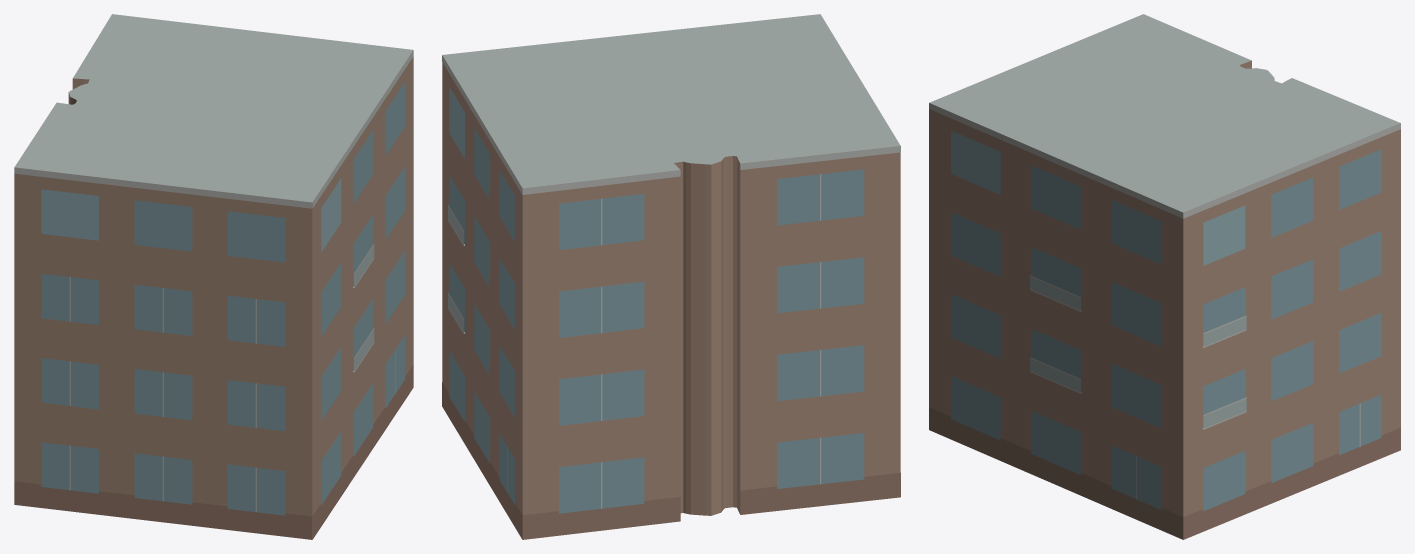
The model's file is survey-upis-33040524.glb.
3 views of the same model, side by side, from view 1: azimuth 30°, elevation 25°; view 2: azimuth 150°, elevation 25°; view 3: azimuth 270°, elevation 25° (orthographic). The views are drawn at different scales.
Parts seen in each view (by area): view 1: survey-upis-33040524.tmp; view 2: survey-upis-33040524.tmp; view 3: survey-upis-33040524.tmp.
Boxes of the visible parts, bbox=[...] form: survey-upis-33040524.tmp: bbox=[14, 14, 413, 539]; survey-upis-33040524.tmp: bbox=[442, 14, 900, 539]; survey-upis-33040524.tmp: bbox=[929, 14, 1400, 539].
Bounding box in the file's own units: 17.2 × 13.2 × 17.25.
